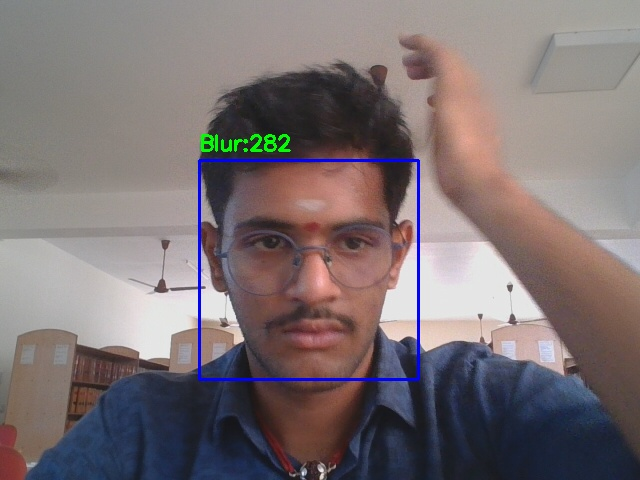real: (199, 160, 418, 379)
